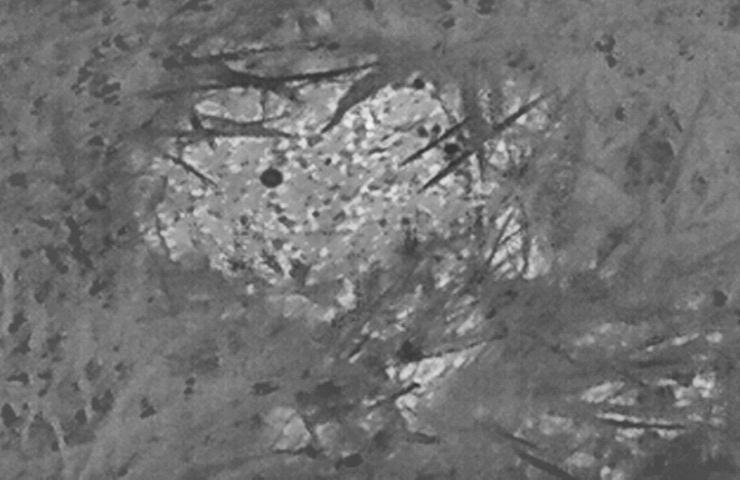landmines: (126, 41, 550, 403)
